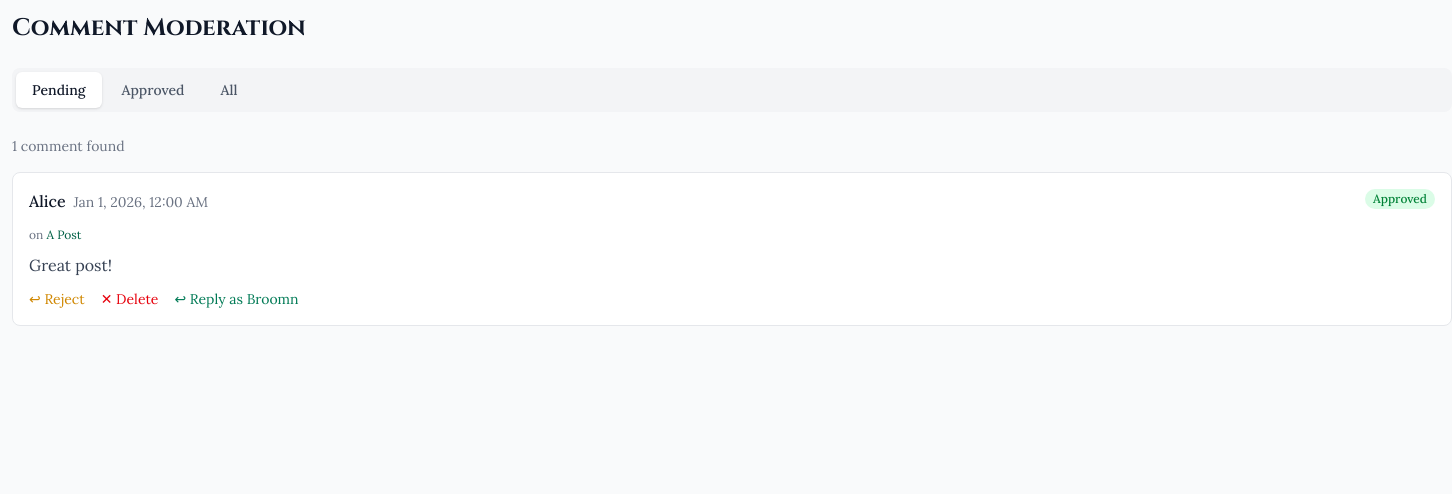
Test case: AdminCommentsPage — reply as Broomn › submits a reply and reloads the comment list
Click the button "↩ Reply as Broomn" at (236, 299), box [174,289,299,309]
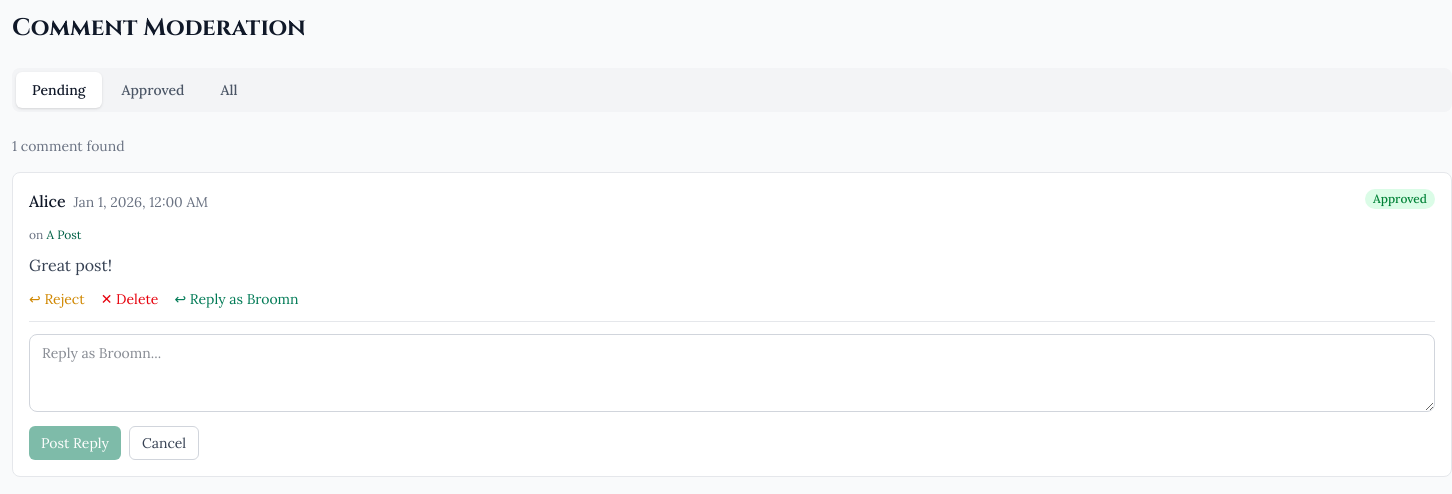
Type "Thanks for reading!" into the text box with placeholder "Reply as Broomn..." at (732, 373), box [29,334,1435,412]
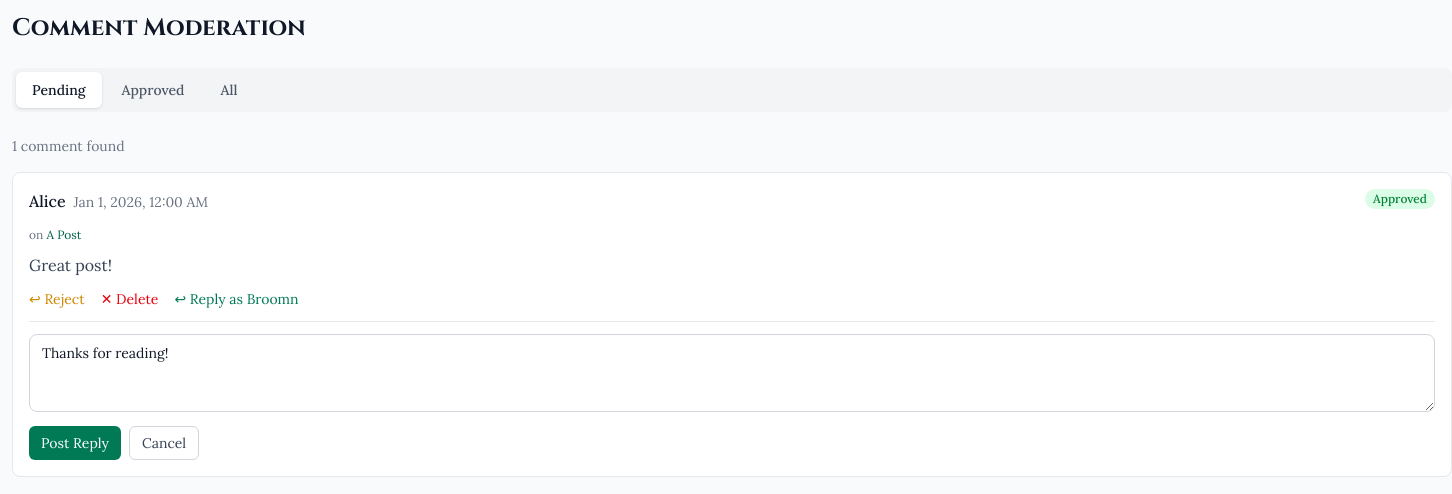
Click the button "Post Reply" at (75, 443), box [29,426,121,460]
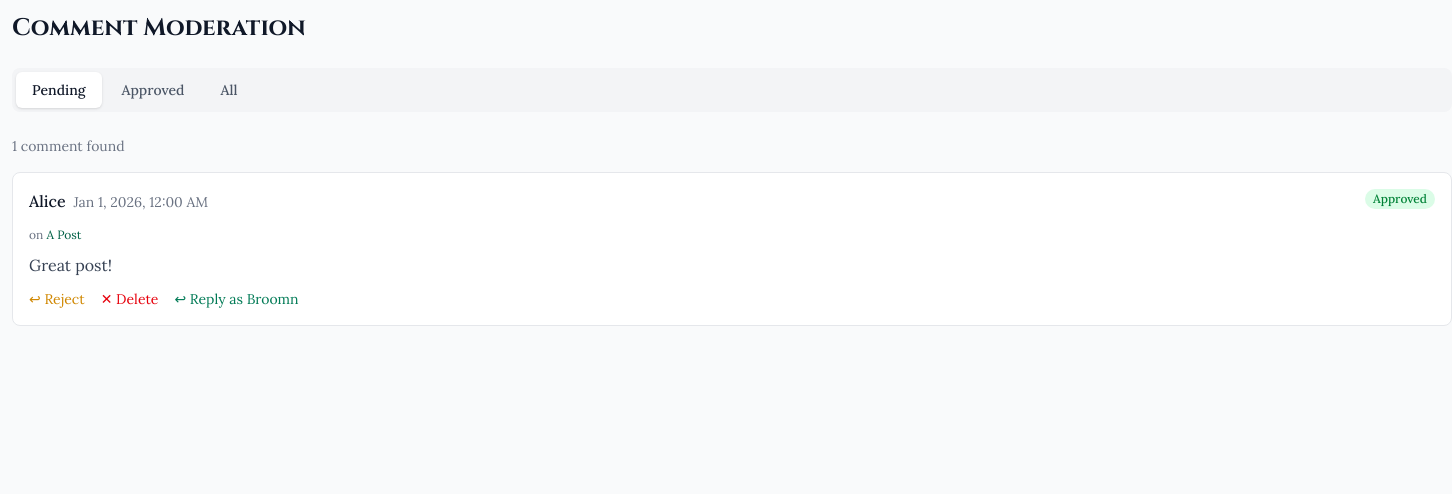
Expected: the field with placeholder "Reply as Broomn..." is gone
